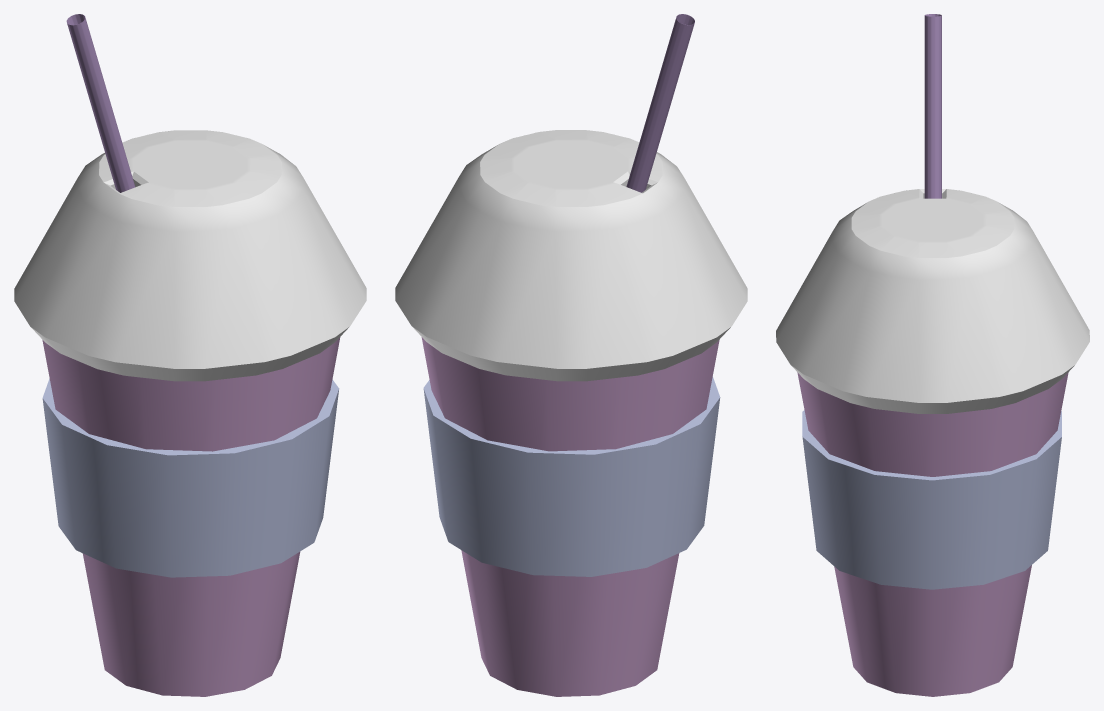
File: milkshake_mug.fbx
3 renders of one model, left to right at view 1: azimuth 30°, elevation 25°; view 2: azimuth 150°, elevation 25°; view 3: azimuth 270°, elevation 25°, orthographic. The views are drawn at different scales.
Parts seen in each view (by area): view 1: milkshake_kapak, pCylinder1, pasted__pasted__pCylinder2, pipet; view 2: milkshake_kapak, pCylinder1, pasted__pasted__pCylinder2, pipet; view 3: milkshake_kapak, pCylinder1, pasted__pasted__pCylinder2, pipet.
Boxes of the visible parts, bbox=[...] form: milkshake_kapak: bbox=[14, 130, 366, 381]; pCylinder1: bbox=[42, 337, 340, 696]; pasted__pasted__pCylinder2: bbox=[42, 378, 339, 577]; pipet: bbox=[66, 14, 135, 192]; milkshake_kapak: bbox=[395, 130, 747, 381]; pCylinder1: bbox=[421, 337, 719, 696]; pasted__pasted__pCylinder2: bbox=[423, 376, 720, 576]; pipet: bbox=[626, 14, 694, 192]; milkshake_kapak: bbox=[776, 189, 1089, 413]; pCylinder1: bbox=[797, 372, 1068, 696]; pasted__pasted__pCylinder2: bbox=[802, 410, 1061, 589]; pipet: bbox=[924, 14, 941, 198].
Size of the model in its own units: 2.93 by 6.14 by 2.91.
